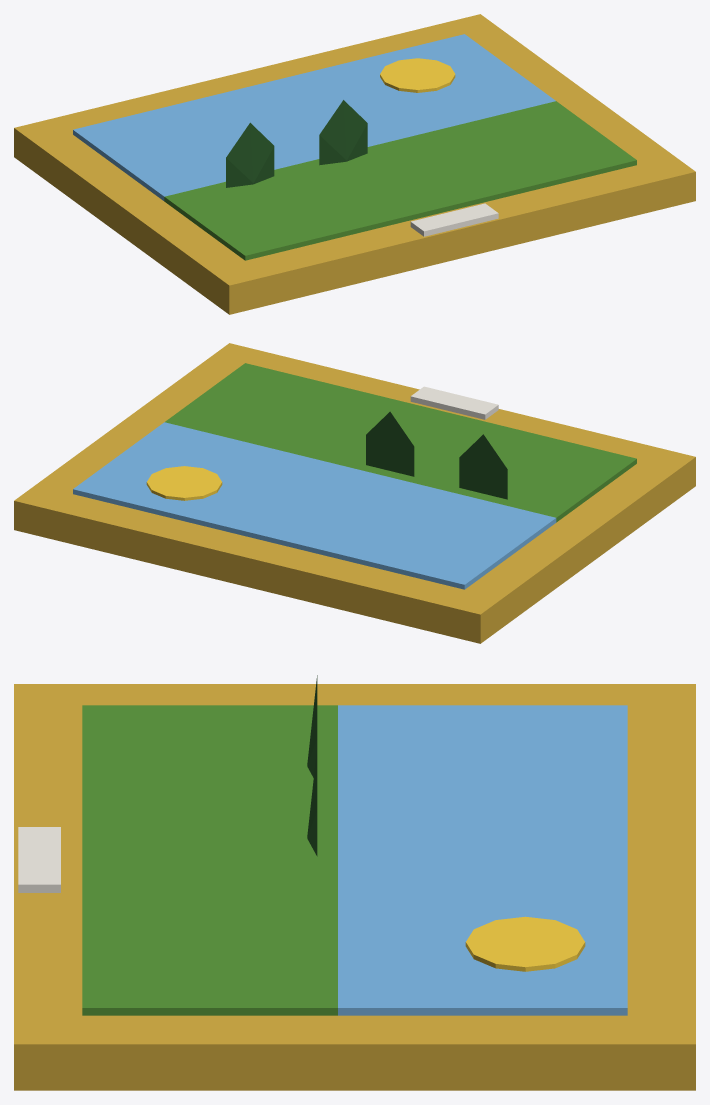
File: original_painting.glb
3 renders of one model, top to bottom at view 1: azimuth 30°, elevation 25°; view 2: azimuth 150°, elevation 25°; view 3: azimuth 270°, elevation 25°, orthographic. The views are drawn at different scales.
Visible parts, largest first — view 1: frame_auction_gold, field_field_green, sky_sky_blue, trees_tree_dark (×2), sun_sun_yellow, label_museum_label; view 2: frame_auction_gold, sky_sky_blue, field_field_green, trees_tree_dark (×2), sun_sun_yellow, label_museum_label; view 3: frame_auction_gold, sky_sky_blue, field_field_green, sun_sun_yellow, label_museum_label, trees_tree_dark.
Boxes of the visible parts, bbox=[...] form: frame_auction_gold: bbox=[14, 14, 695, 314]; field_field_green: bbox=[164, 101, 636, 260]; sky_sky_blue: bbox=[73, 34, 555, 200]; trees_tree_dark (×2): bbox=[226, 100, 367, 187]; sun_sun_yellow: bbox=[380, 58, 455, 92]; label_museum_label: bbox=[410, 203, 498, 236]; frame_auction_gold: bbox=[14, 343, 695, 643]; sky_sky_blue: bbox=[73, 422, 556, 589]; field_field_green: bbox=[165, 363, 636, 522]; trees_tree_dark (×2): bbox=[366, 411, 507, 499]; sun_sun_yellow: bbox=[146, 466, 222, 500]; label_museum_label: bbox=[410, 386, 498, 419]; frame_auction_gold: bbox=[14, 684, 695, 1090]; sky_sky_blue: bbox=[338, 705, 627, 1015]; field_field_green: bbox=[82, 705, 337, 1015]; sun_sun_yellow: bbox=[465, 916, 585, 971]; label_museum_label: bbox=[18, 827, 60, 892]; trees_tree_dark: bbox=[307, 747, 317, 856].
Size of the model in its own units: 1 by 0.24 by 0.8.
